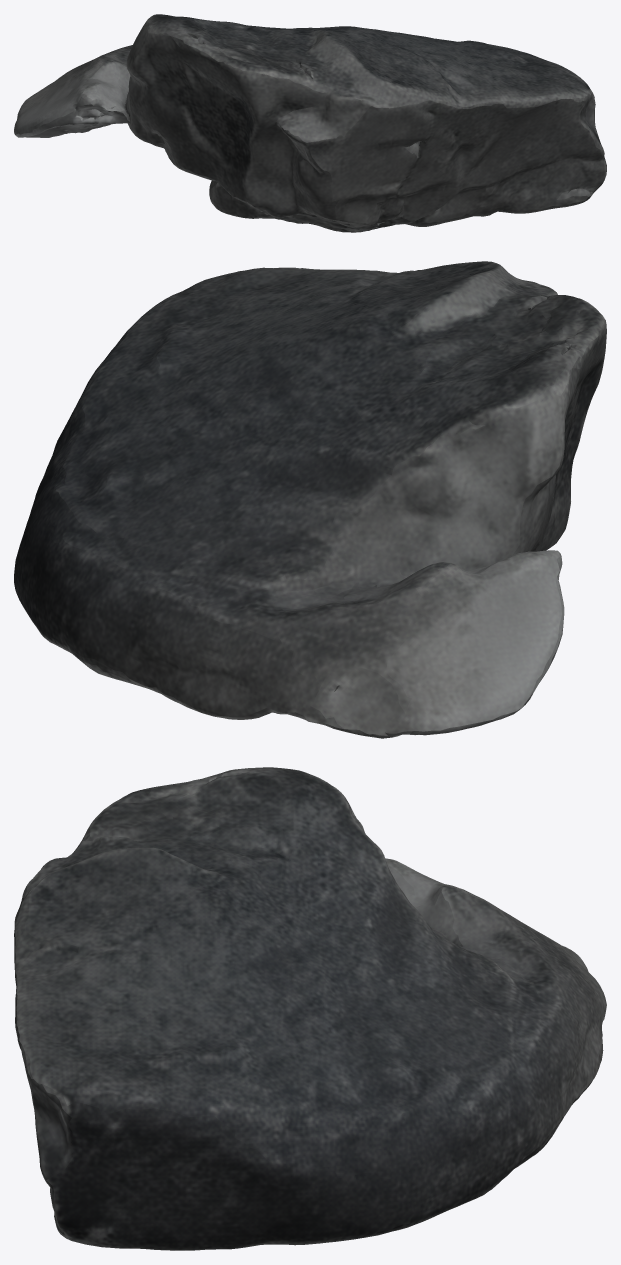
The picture shows the model from 3 angles, top to bottom: view 1: azimuth 30°, elevation 25°; view 2: azimuth 150°, elevation 25°; view 3: azimuth 270°, elevation 25°; orthographic projection. The views are drawn at different scales.
Visible parts, largest first — view 1: world; view 2: world; view 3: world.
Part boxes in pixels (box(x1,y1,x2,y2)): world: box(14, 14, 606, 232); world: box(14, 261, 606, 738); world: box(14, 767, 606, 1250).
Size of the model in its own units: 2.5 by 1.17 by 2.36.
Materials: 1 (1 with a texture image).
